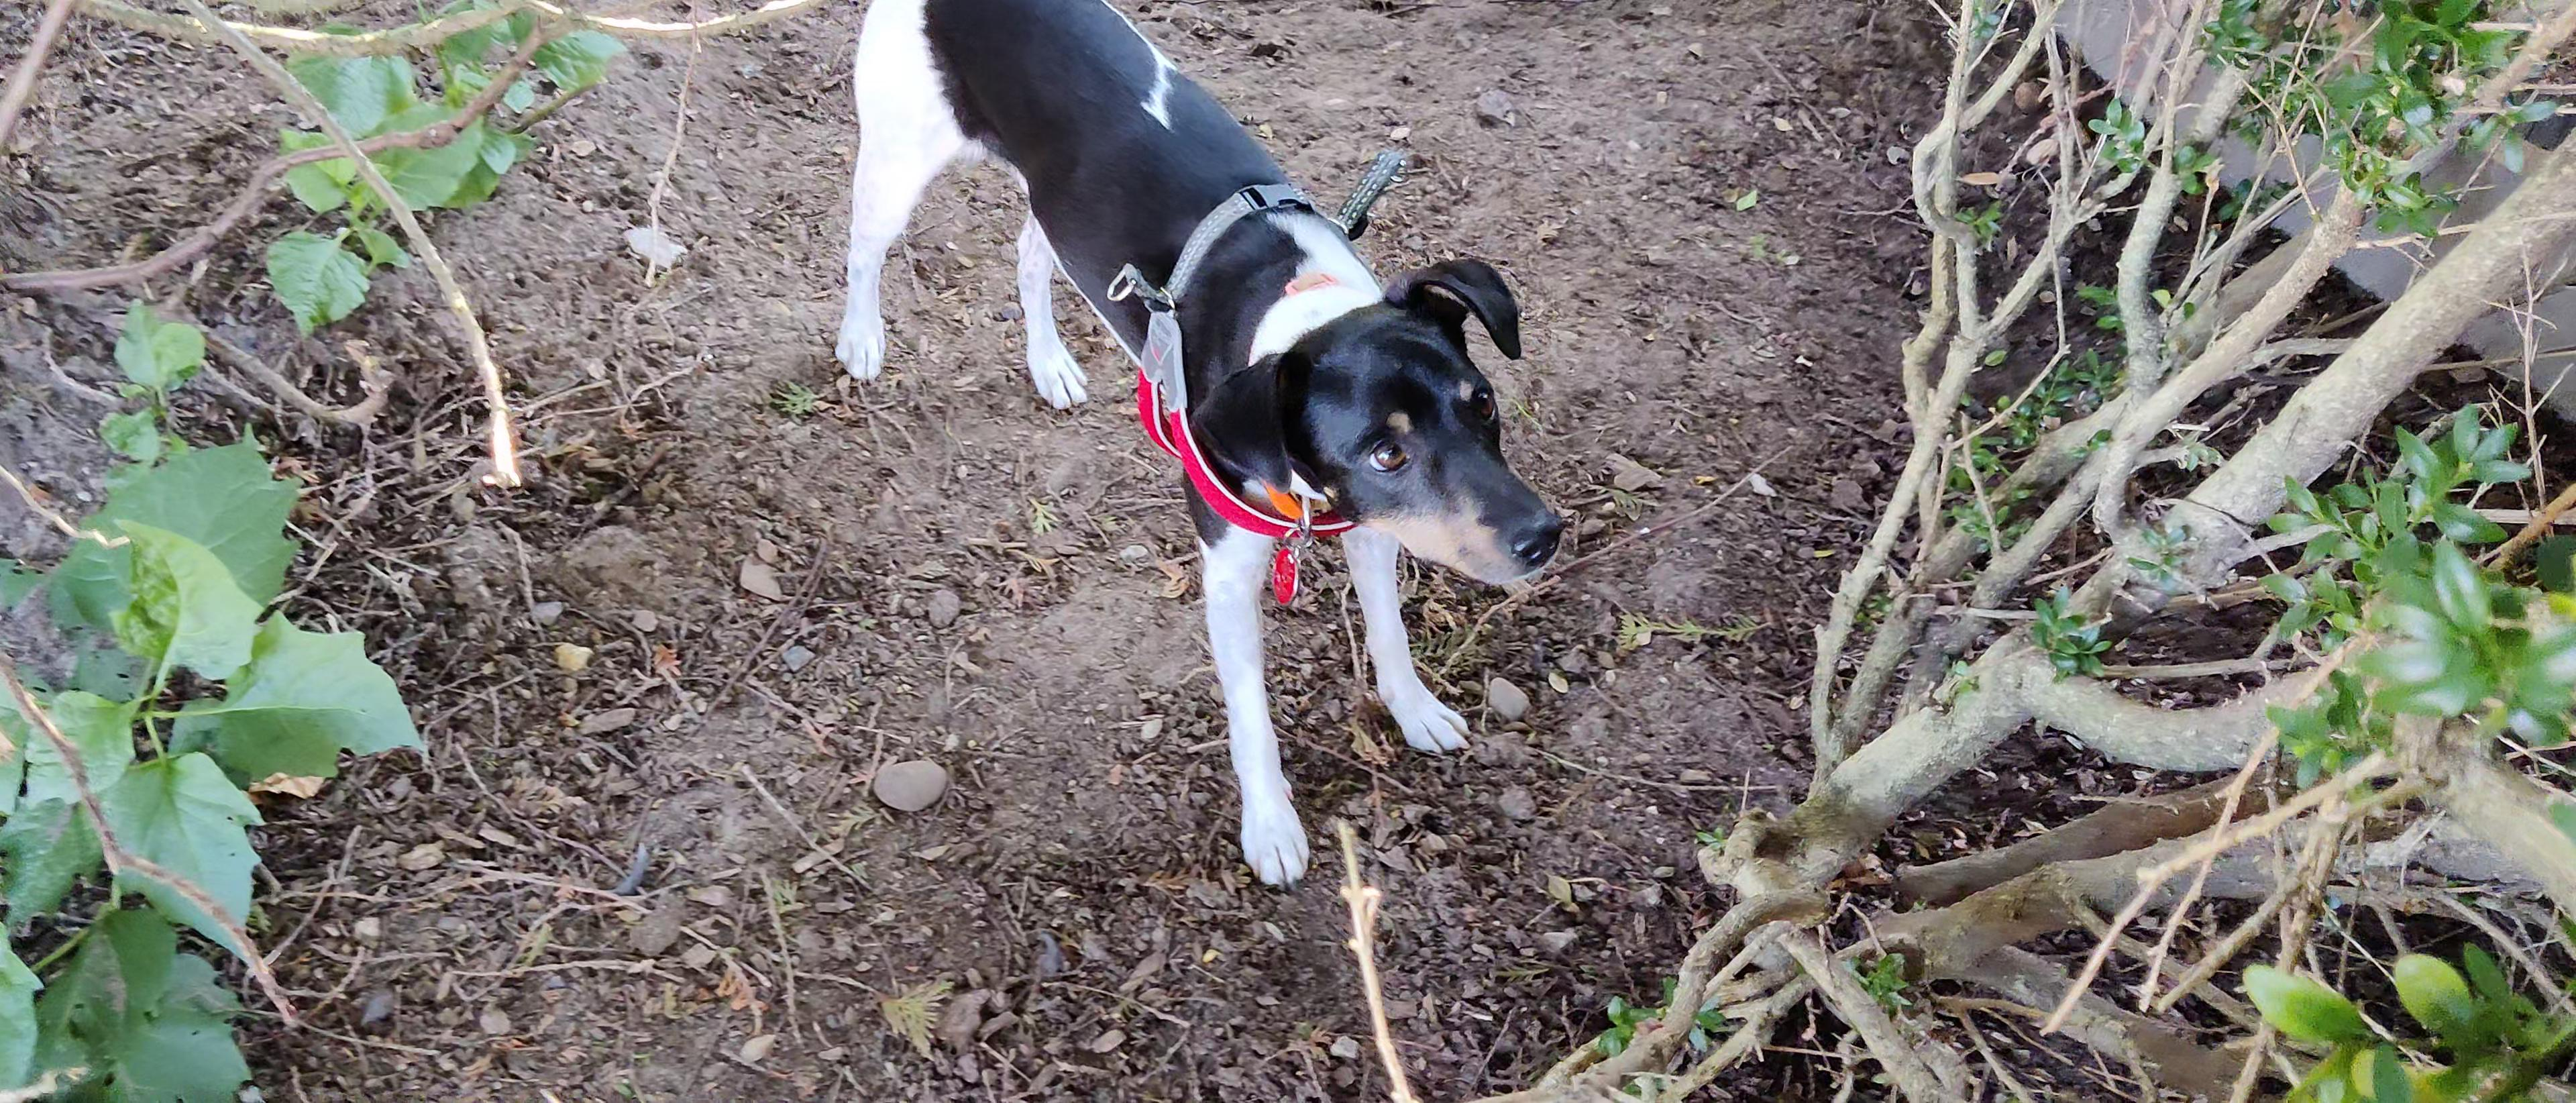Dog: (775, 0, 1607, 916)
